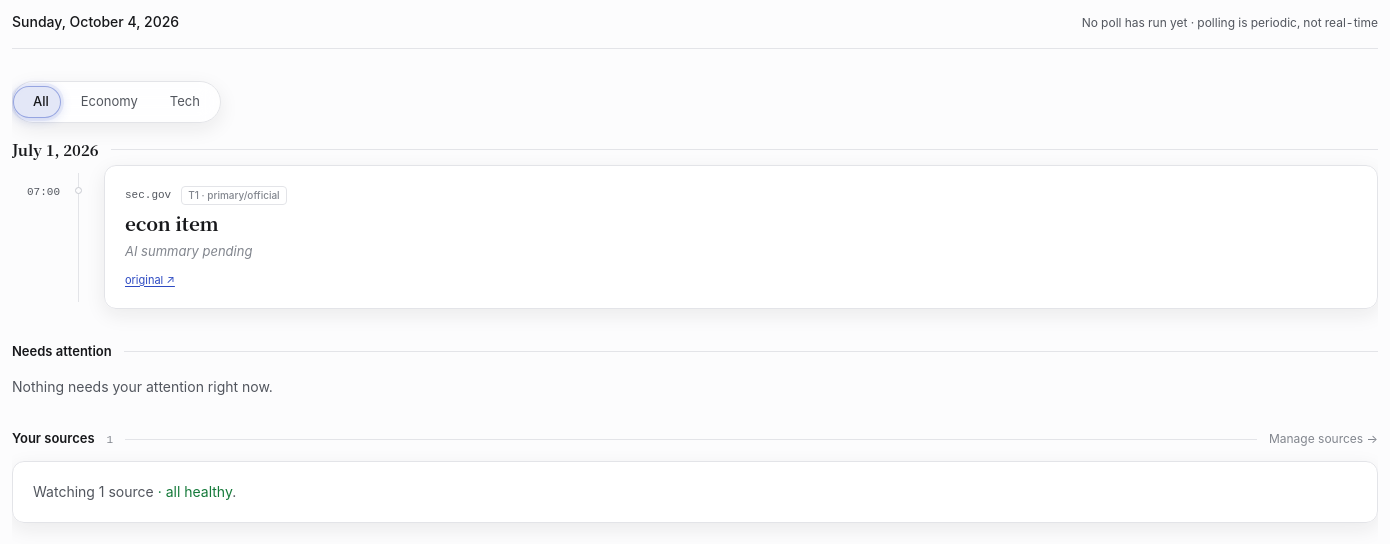
Test: Today header and timeline briefing › an empty board filter says so instead of a blank page
What coordinates should you click on to do the following:
click the button "Tech"
I would click on:
 (185, 102)
Its box is [154,86,216,118].
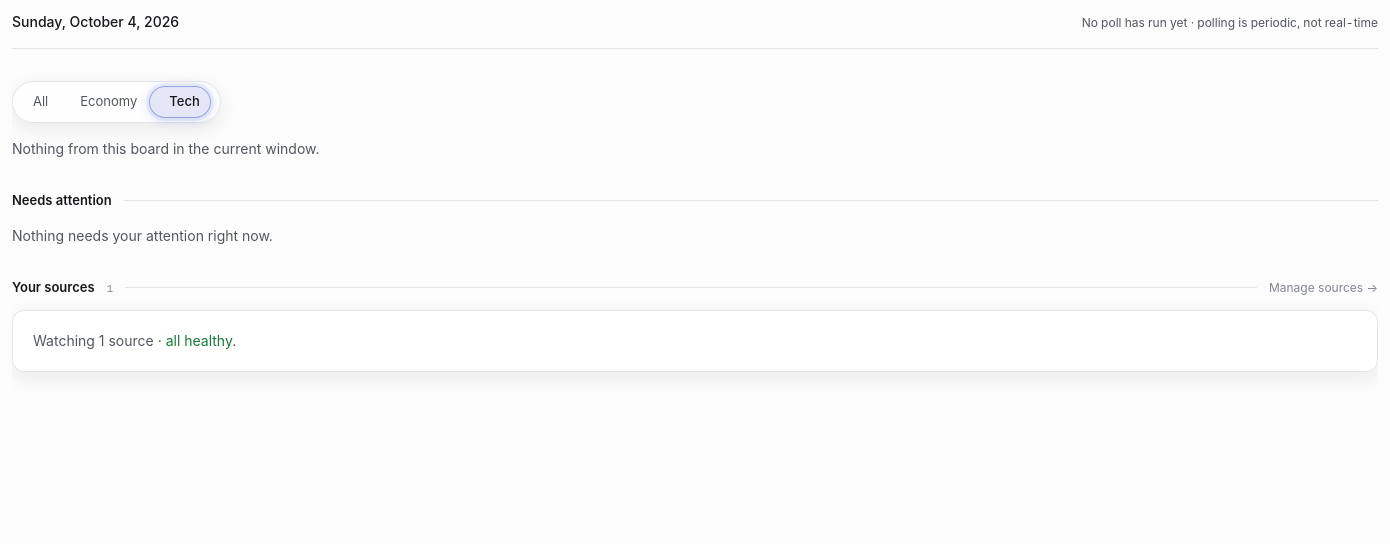
Now the text "Nothing from this board in the current window." is shown, box [12,140,320,156]
